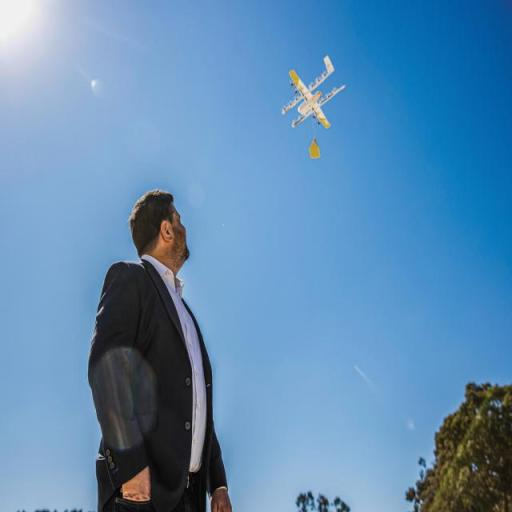uav: (273, 53, 356, 134)
